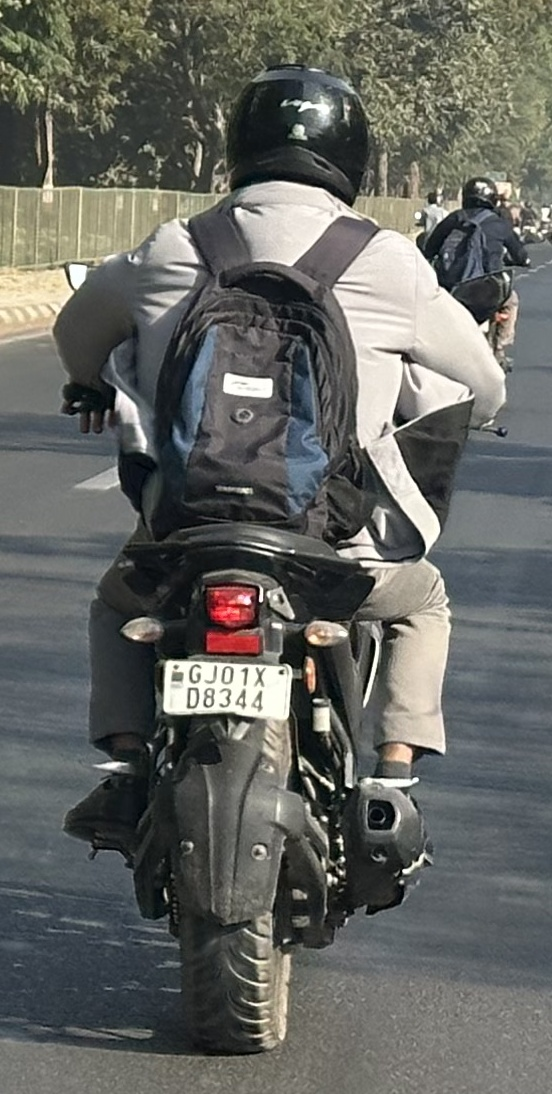BikeWithRider: (57, 43, 512, 1056), (422, 164, 531, 434)
Helmet: (209, 52, 370, 225), (455, 164, 503, 211)
